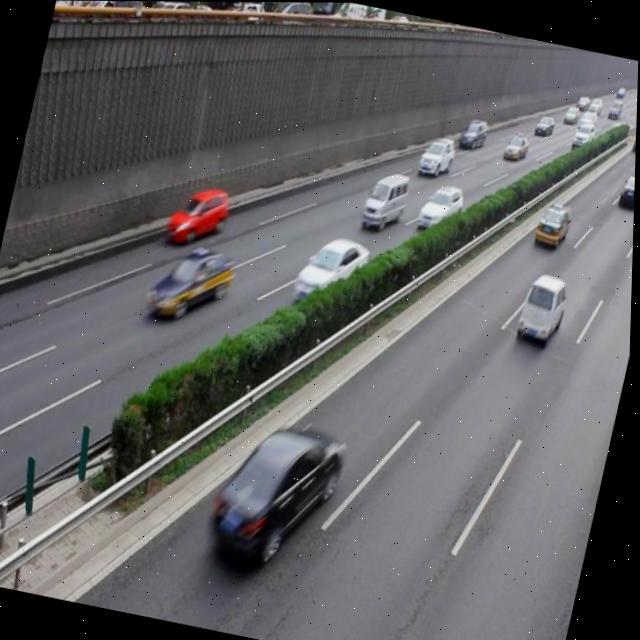car: (206, 411, 353, 576), (144, 236, 240, 329), (291, 229, 373, 311), (165, 180, 234, 251), (415, 177, 467, 234), (532, 199, 573, 251), (415, 132, 457, 180)
truck: (517, 269, 572, 345), (359, 167, 413, 235)
